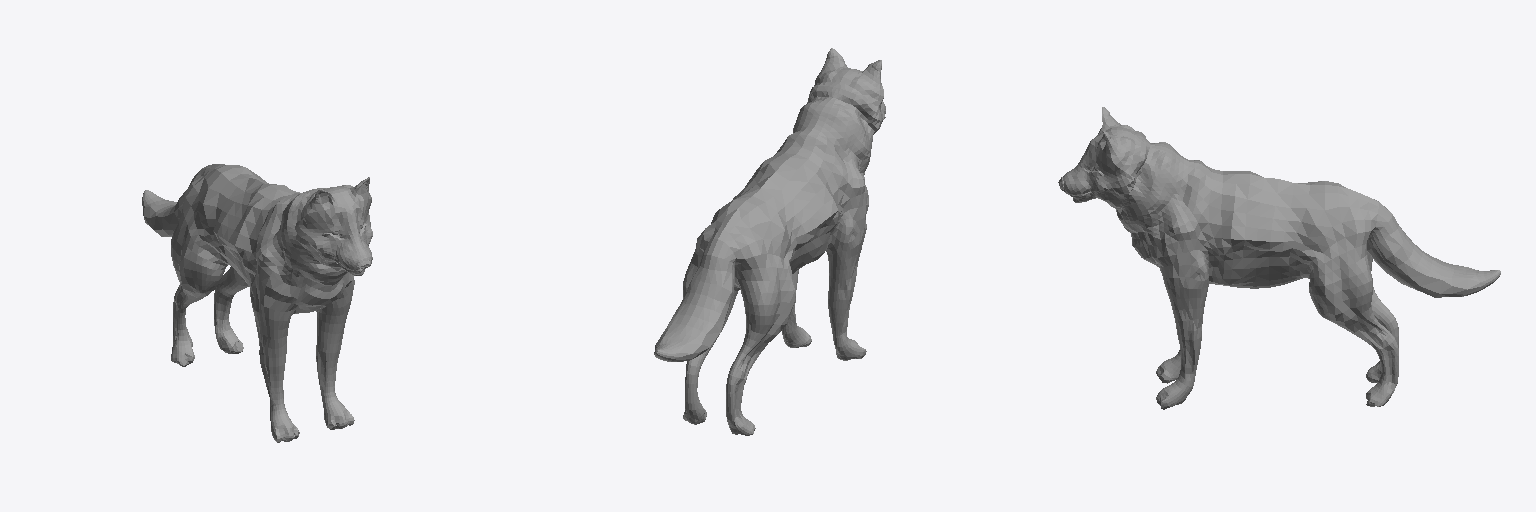
The model's file is wolf.obj.
3 views of the same model, side by side, from view 1: azimuth 30°, elevation 25°; view 2: azimuth 150°, elevation 25°; view 3: azimuth 270°, elevation 25° (orthographic).
Visible parts, largest first — view 1: wolf_Group50196; view 2: wolf_Group50196; view 3: wolf_Group50196.
Part boxes in pixels (x1,y1,x2,y2): wolf_Group50196: (142, 164, 372, 442); wolf_Group50196: (654, 48, 885, 435); wolf_Group50196: (1058, 107, 1500, 409).
Size of the model in its own units: 2.16 by 5.71 by 8.34.